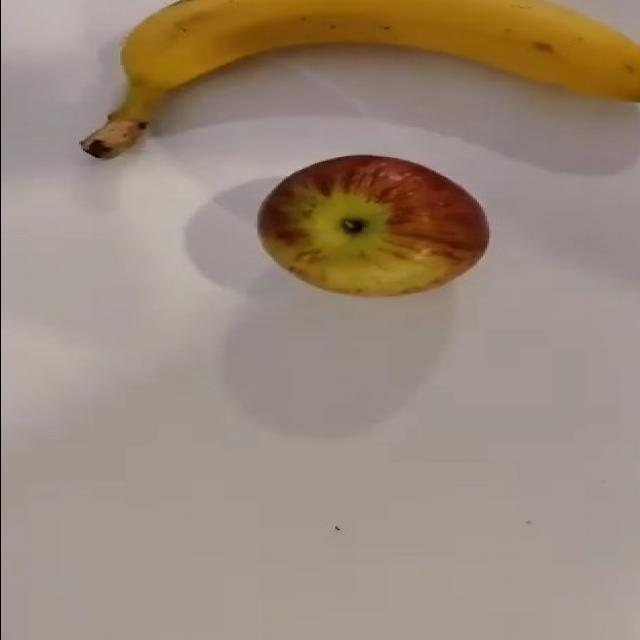Apple: (258, 150, 490, 300)
Banana: (89, 0, 640, 155)
